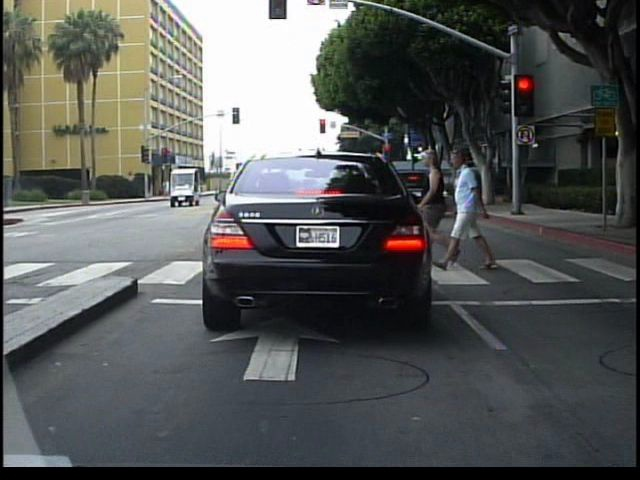person: (448, 139, 501, 274), (415, 142, 453, 233)
